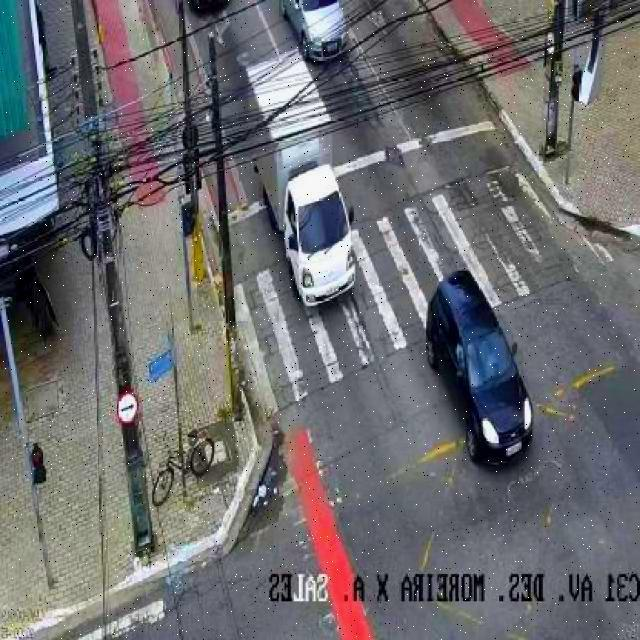Car: (424, 266, 540, 468), (271, 0, 356, 64)
Cycle: (144, 427, 216, 514)
Truck: (239, 53, 364, 314)
